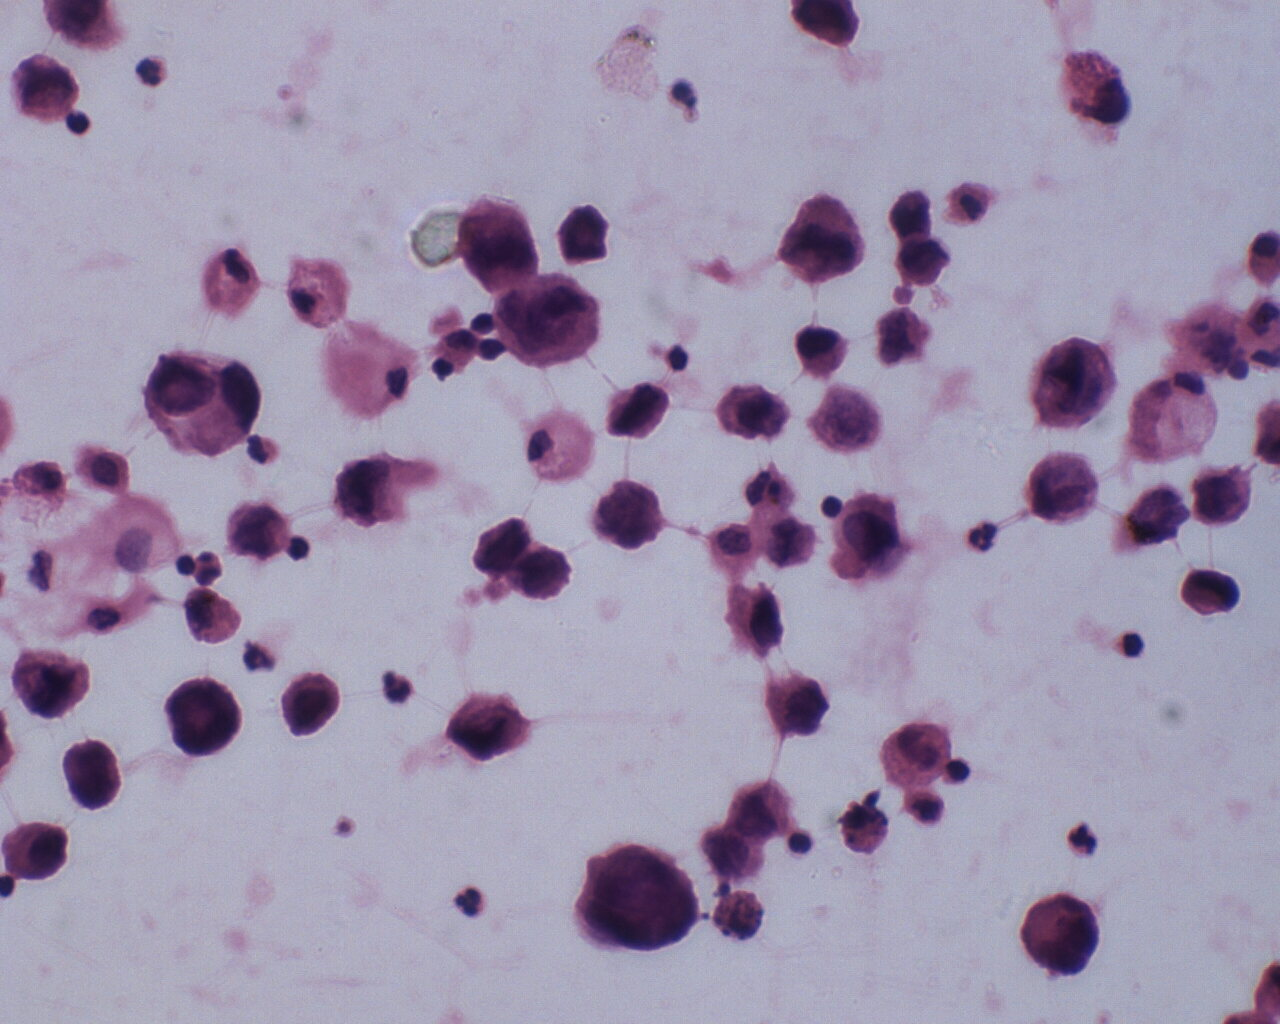ab: (574, 843, 700, 956), (453, 195, 549, 295), (777, 188, 865, 289), (1033, 333, 1118, 434), (7, 641, 102, 725), (830, 492, 909, 583), (1023, 890, 1101, 978), (164, 676, 243, 760), (6, 47, 84, 125), (755, 668, 836, 741), (56, 736, 126, 815), (1189, 462, 1256, 533), (600, 383, 671, 447), (227, 499, 290, 571), (1174, 565, 1248, 622)
histo: (317, 319, 421, 426), (1127, 364, 1219, 469), (520, 406, 598, 487), (277, 254, 355, 330), (195, 243, 266, 318)
neutro: (449, 879, 489, 918), (376, 666, 416, 705), (129, 45, 165, 85), (245, 430, 281, 470), (1066, 818, 1099, 858), (965, 518, 999, 555)
